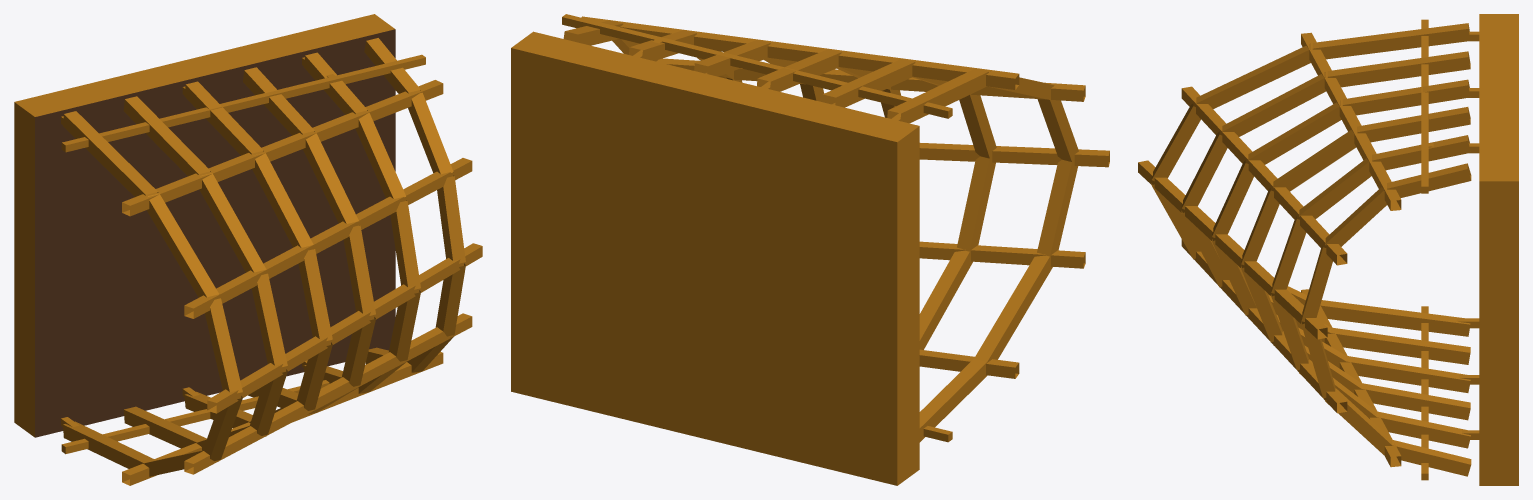
Rendered from south.glb.
3 views of the same model, side by side, from view 1: azimuth 30°, elevation 25°; view 2: azimuth 150°, elevation 25°; view 3: azimuth 270°, elevation 25° (orthographic). The views are drawn at different scales.
Parts seen in each view (by area): view 1: bridge_11_south; view 2: bridge_11_south; view 3: bridge_11_south.
Boxes of the visible parts, x1,y1,x2,y2 form: bridge_11_south: [14, 14, 482, 485]; bridge_11_south: [511, 14, 1109, 485]; bridge_11_south: [1138, 14, 1518, 485].
Bounding box in the file's own units: 16.19 × 13.74 × 15.4.
